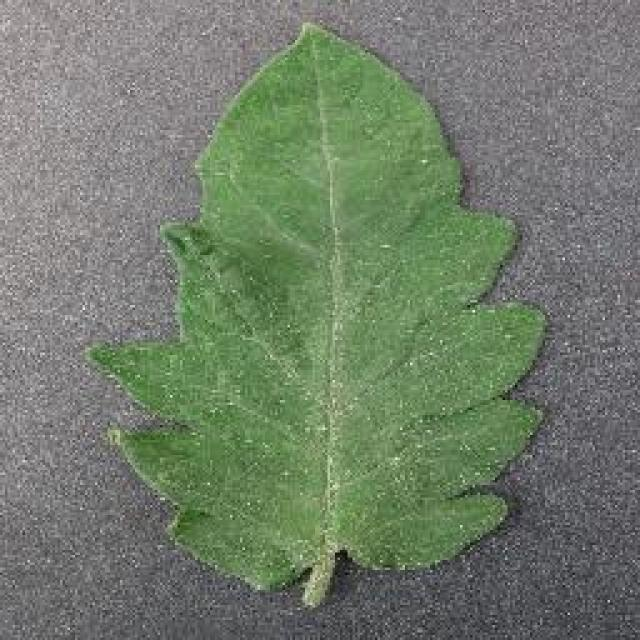Tomato healthy leaf: (110, 29, 538, 604)
